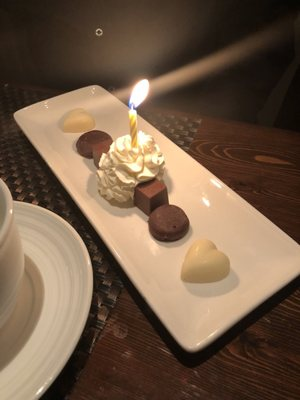sushi: (95, 131, 167, 208), (133, 176, 169, 216)
